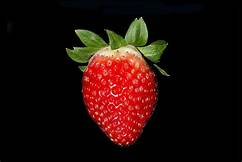Fresa: (80, 38, 161, 147)
